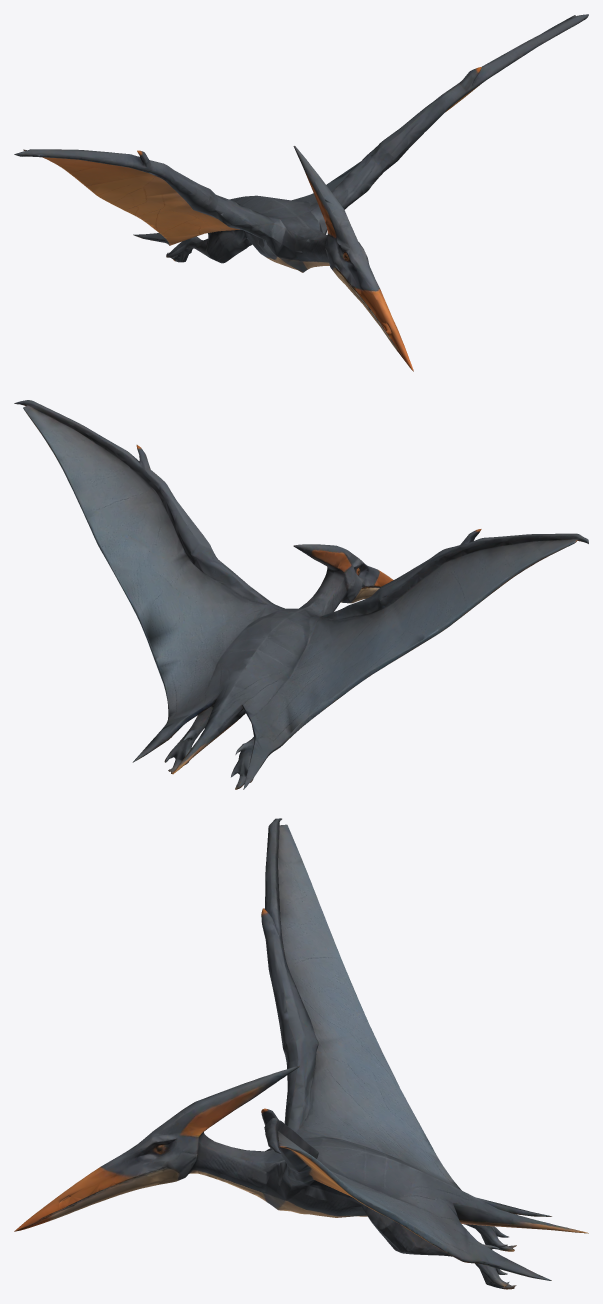
The model's file is pterodactyl-hy3d-v35-stylized.glb.
The picture shows the model from 3 angles, top to bottom: view 1: azimuth 30°, elevation 25°; view 2: azimuth 150°, elevation 25°; view 3: azimuth 270°, elevation 25°; orthographic projection. The views are drawn at different scales.
Bounding box in the file's own units: 1.12 × 0.4483 × 0.8103.
1 material, 1 textured.
